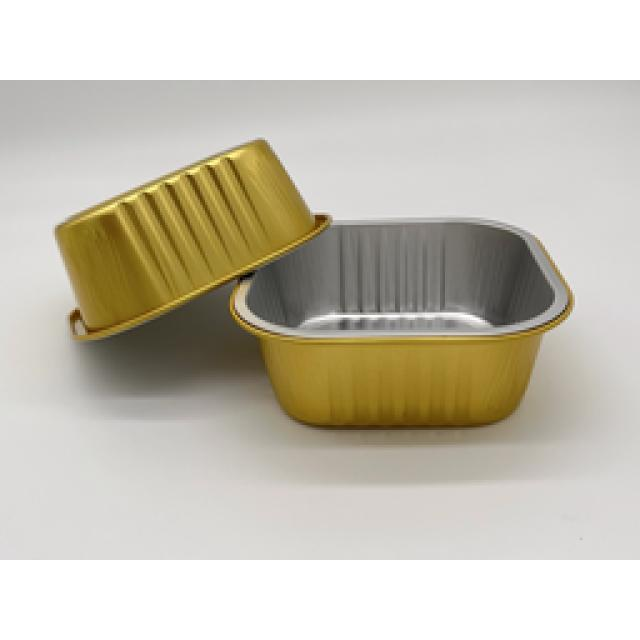alumunium: (55, 140, 572, 425)
